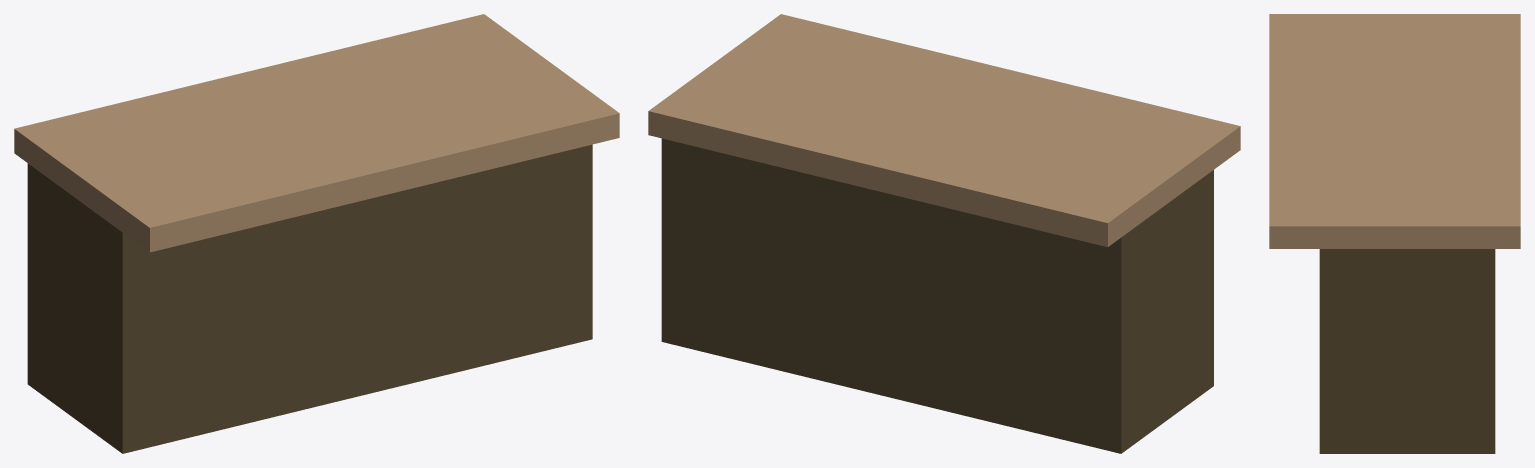
Rendered from enchantedforest_bar.fbx.
3 views of the same model, side by side, from view 1: azimuth 30°, elevation 25°; view 2: azimuth 150°, elevation 25°; view 3: azimuth 270°, elevation 25° (orthographic). The views are drawn at different scales.
Parts seen in each view (by area): view 1: Cube.035; view 2: Cube.035; view 3: Cube.035.
Part boxes in pixels (x1=…): Cube.035: x1=14, y1=14, x2=619, y2=453; Cube.035: x1=648, y1=14, x2=1240, y2=453; Cube.035: x1=1269, y1=14, x2=1520, y2=453.
Bounding box in the file's own units: 2 × 1 × 1.
